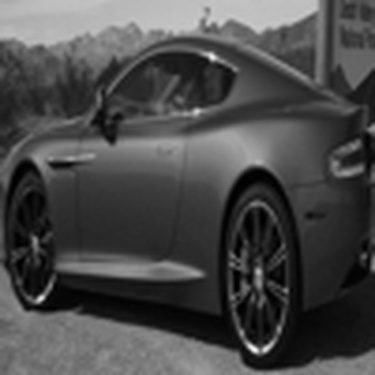car: (3, 21, 370, 368)
